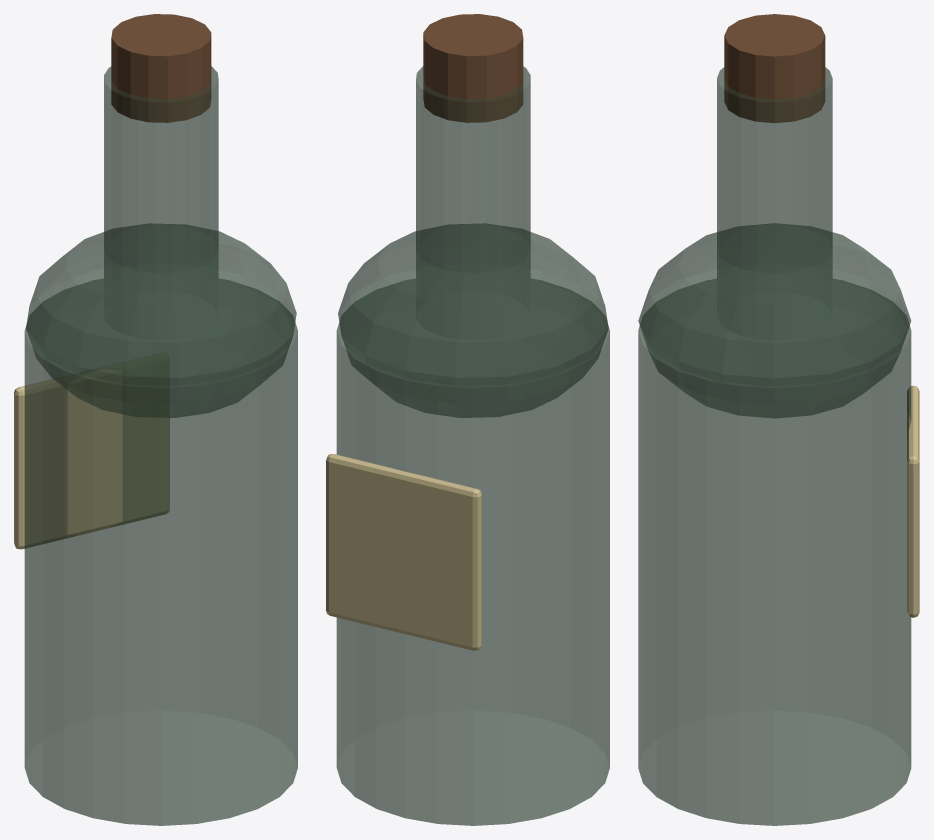
Rendered from rum-bottle.glb.
3 views of the same model, side by side, from view 1: azimuth 30°, elevation 25°; view 2: azimuth 150°, elevation 25°; view 3: azimuth 270°, elevation 25° (orthographic).
Visible parts, largest first — view 1: BottleBody, BottleShoulder, BottleNeck, BottleLabel, BottleCork; view 2: BottleBody, BottleShoulder, BottleNeck, BottleLabel, BottleCork; view 3: BottleBody, BottleShoulder, BottleNeck, BottleCork, BottleLabel.
Boxes of the visible parts, box(x1,y1,x2,y2) form: BottleBody: box(24, 279, 297, 825); BottleShoulder: box(26, 224, 296, 417); BottleNeck: box(104, 66, 218, 339); BottleLabel: box(14, 370, 169, 549); BottleCork: box(111, 14, 211, 122); BottleBody: box(336, 279, 609, 825); BottleShoulder: box(338, 224, 608, 417); BottleNeck: box(416, 66, 530, 339); BottleLabel: box(326, 454, 481, 650); BottleCork: box(423, 14, 523, 122); BottleBody: box(638, 279, 911, 825); BottleShoulder: box(638, 224, 910, 418); BottleNeck: box(717, 67, 832, 340); BottleCork: box(724, 14, 825, 123); BottleLabel: box(907, 385, 919, 617).
Size of the model in its own units: 0.26 by 0.77 by 0.268.
